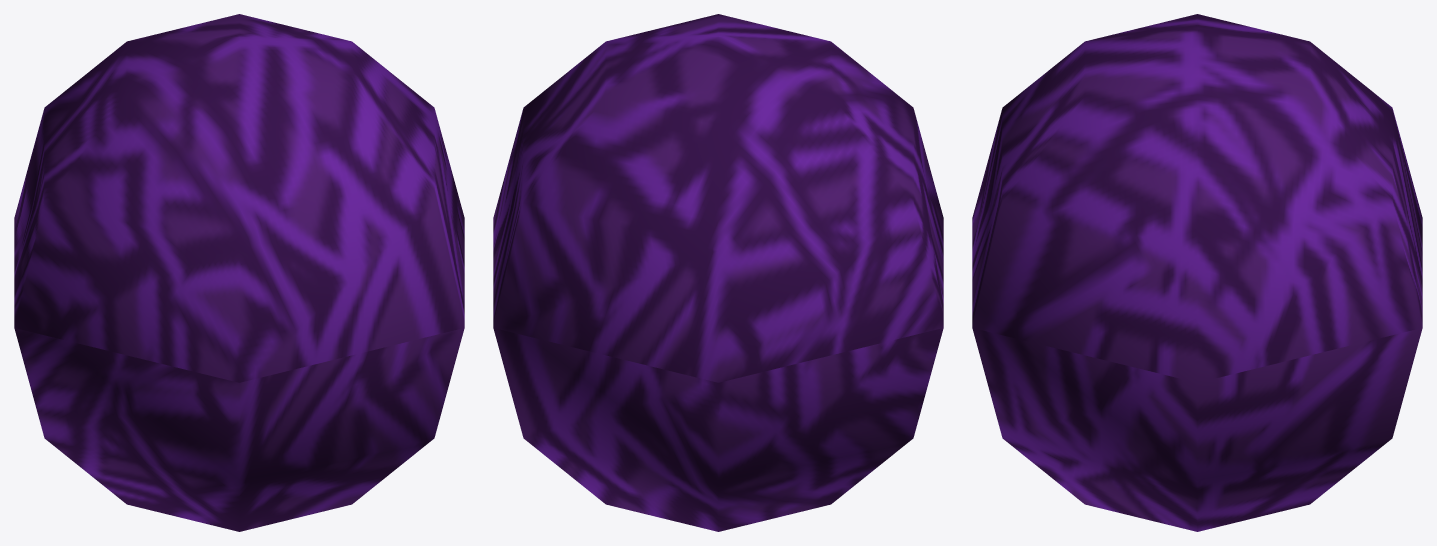
The model's file is e_asset_yarn_purple.fbx.
The picture shows the model from 3 angles, left to right: view 1: azimuth 30°, elevation 25°; view 2: azimuth 150°, elevation 25°; view 3: azimuth 270°, elevation 25°; orthographic projection.
Visible parts, largest first — view 1: pSphere8; view 2: pSphere8; view 3: pSphere8.
Boxes of the visible parts, left/top/right/bottom form: pSphere8: left=14, top=14, right=464, bottom=531; pSphere8: left=493, top=14, right=943, bottom=531; pSphere8: left=972, top=14, right=1422, bottom=531.
Bounding box in the file's own units: 0.1368 × 0.1368 × 0.1185.
